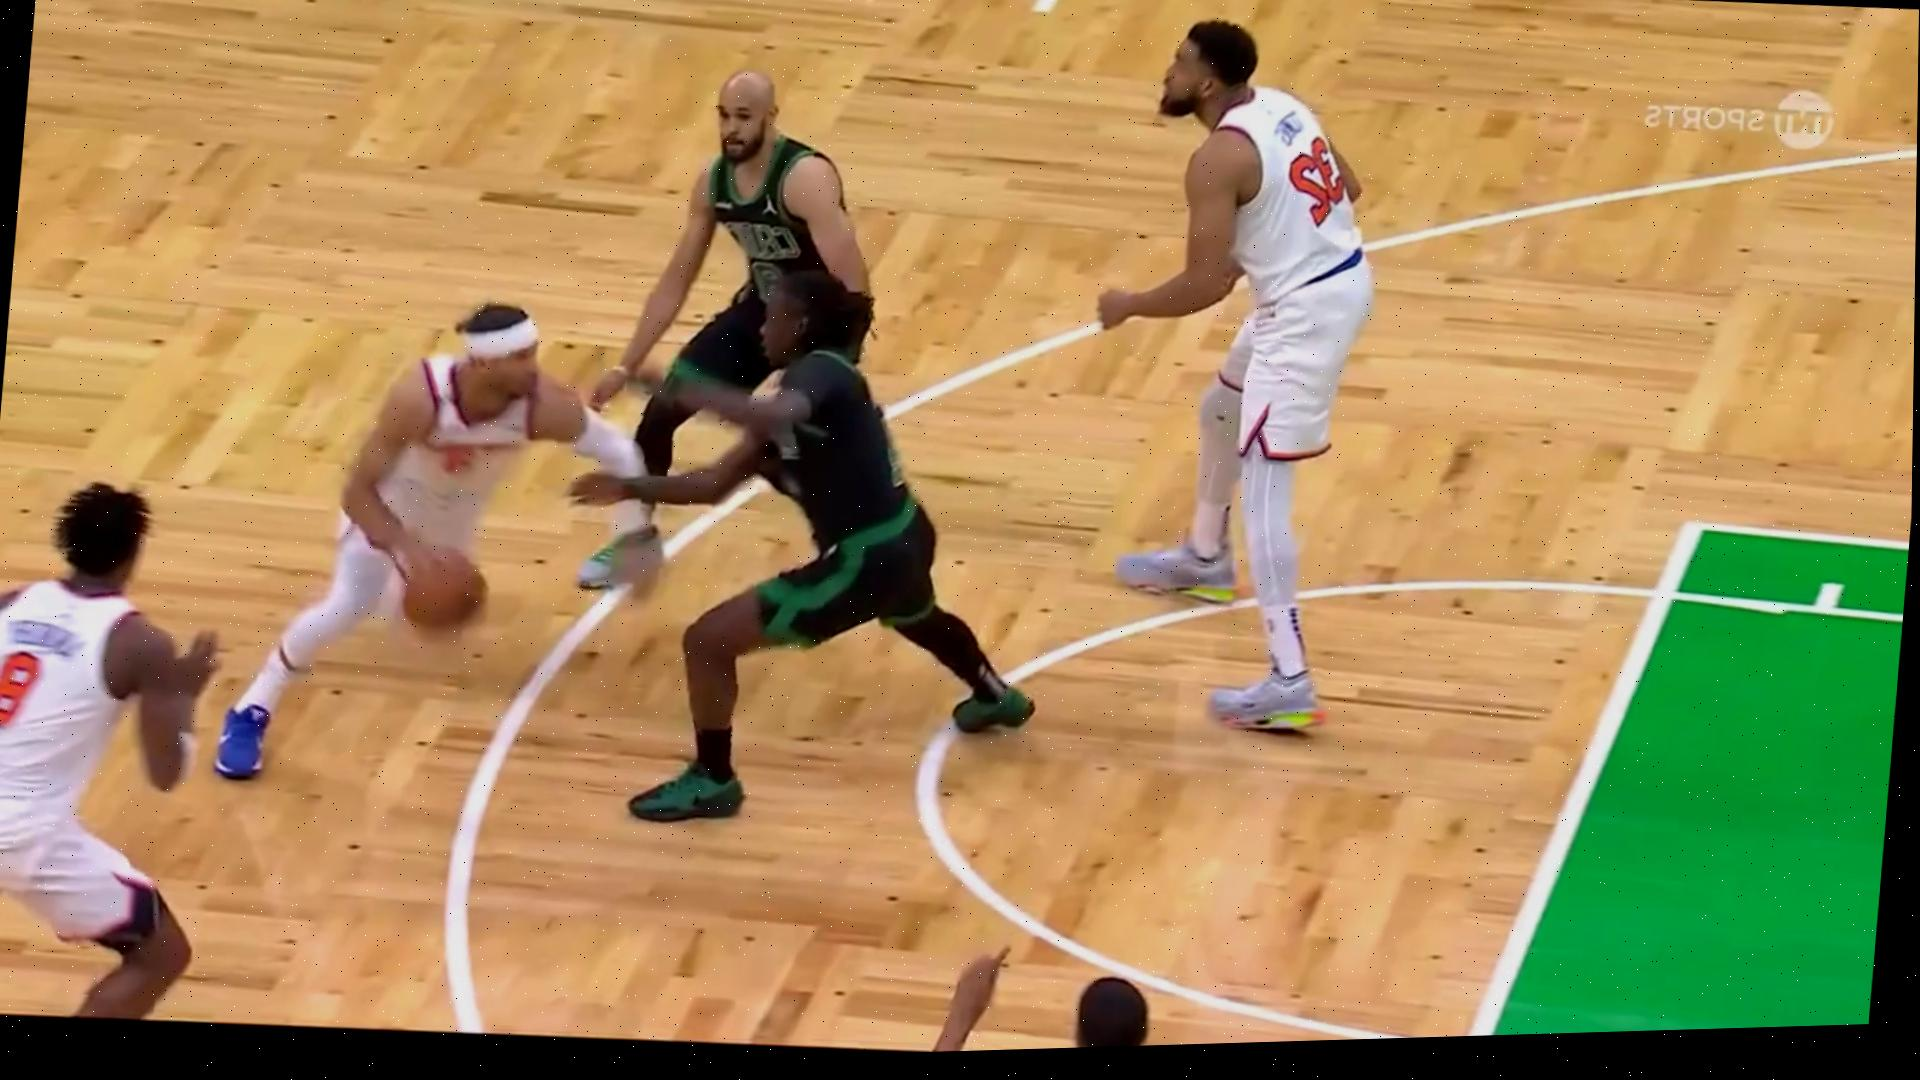no_foul: (189, 219, 1034, 891)
